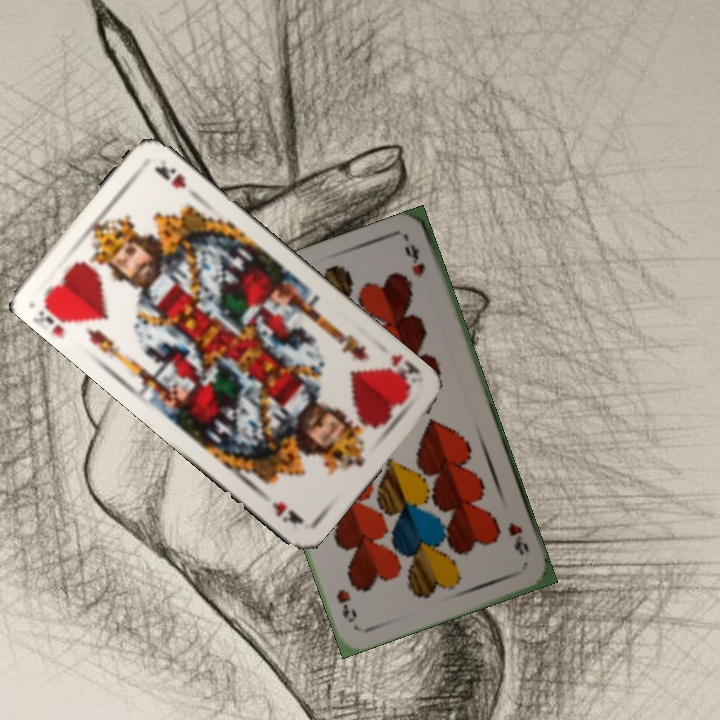H9: (503, 518, 532, 558)
HK: (378, 350, 423, 393), (31, 294, 81, 329)
